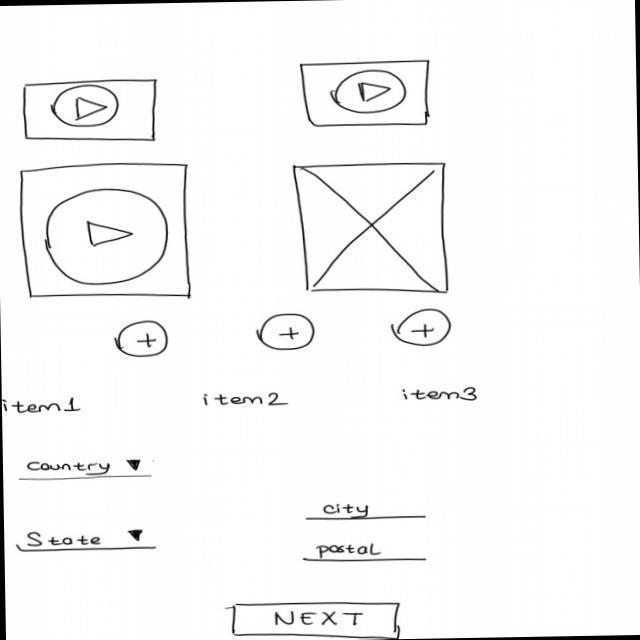button: (219, 596, 406, 640)
icon-button: (390, 308, 455, 350), (115, 319, 175, 361), (257, 313, 319, 353)
image: (292, 159, 458, 298)
input: (299, 536, 436, 568), (302, 495, 435, 525)
label: (194, 386, 295, 414), (390, 384, 494, 406), (3, 393, 88, 418)
select: (12, 523, 158, 556), (13, 452, 158, 485)
